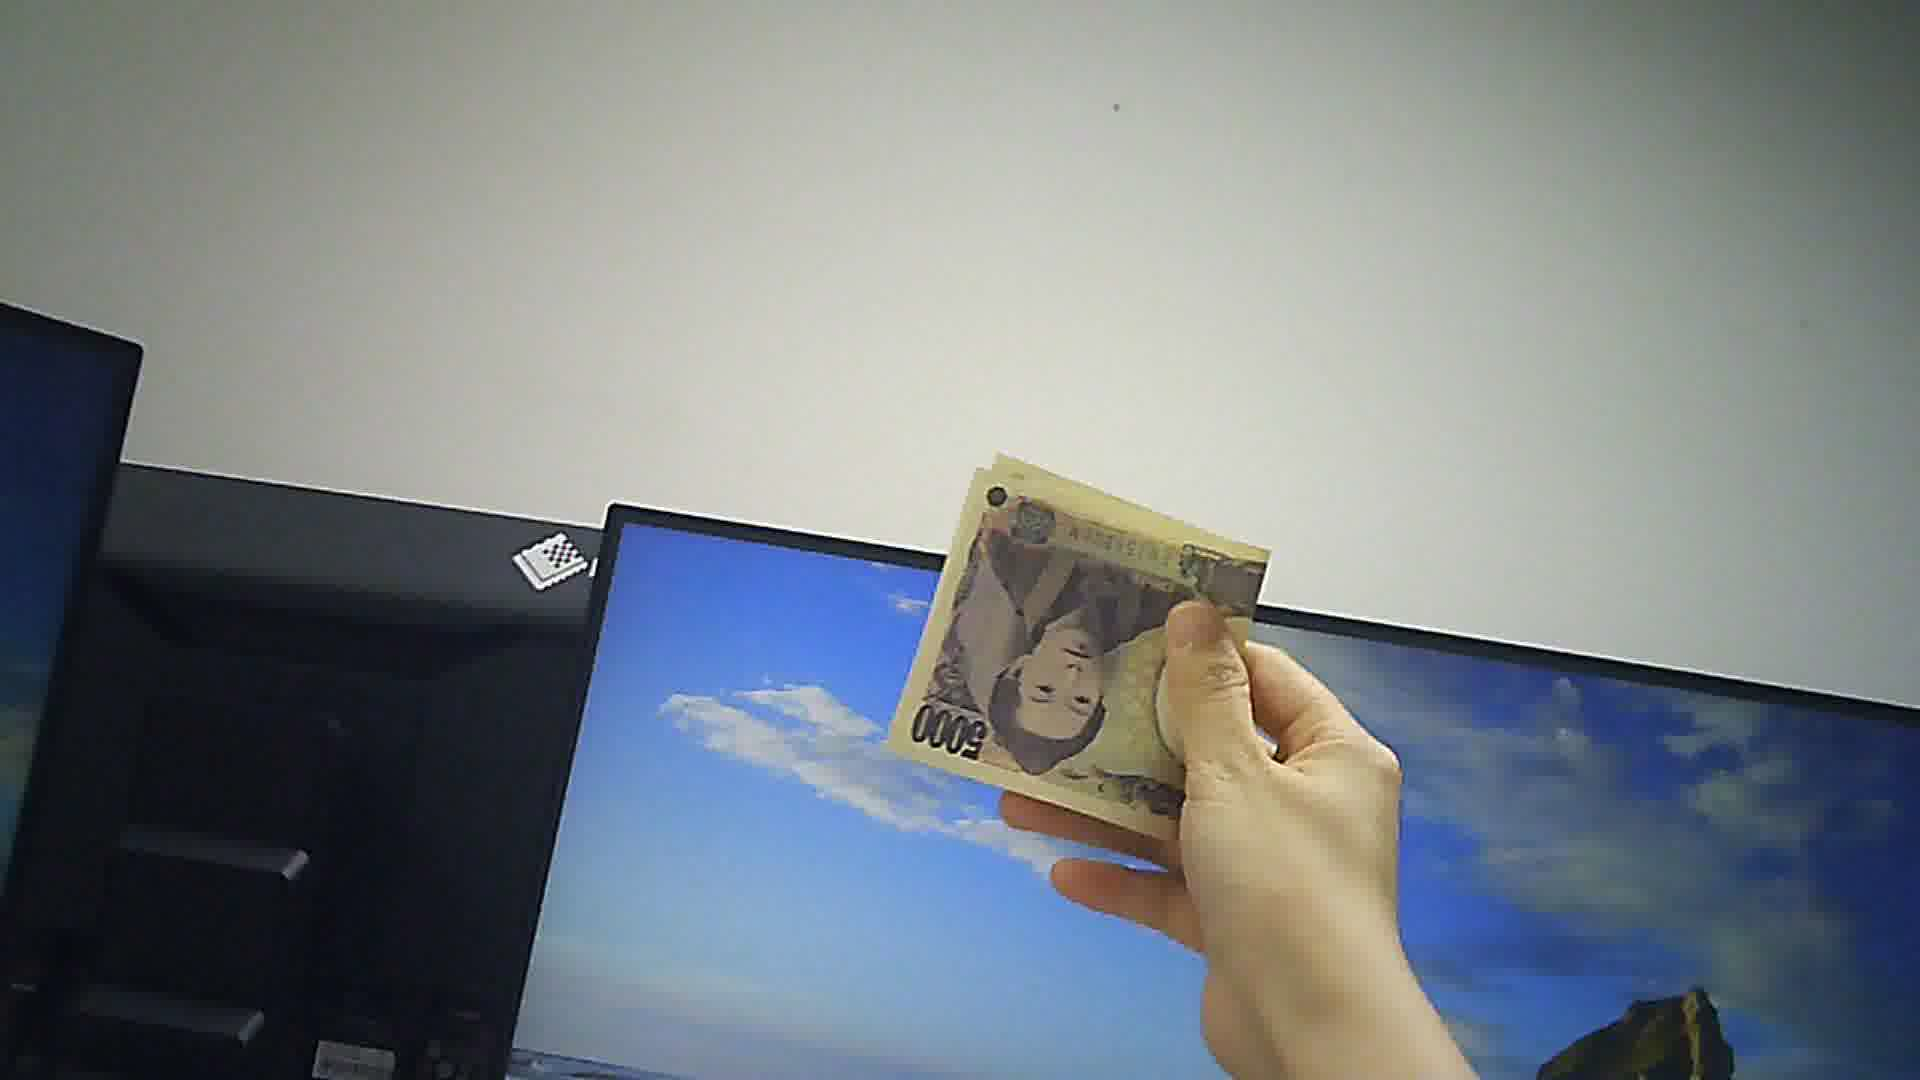5,000 Yen: (865, 447, 1270, 855)
